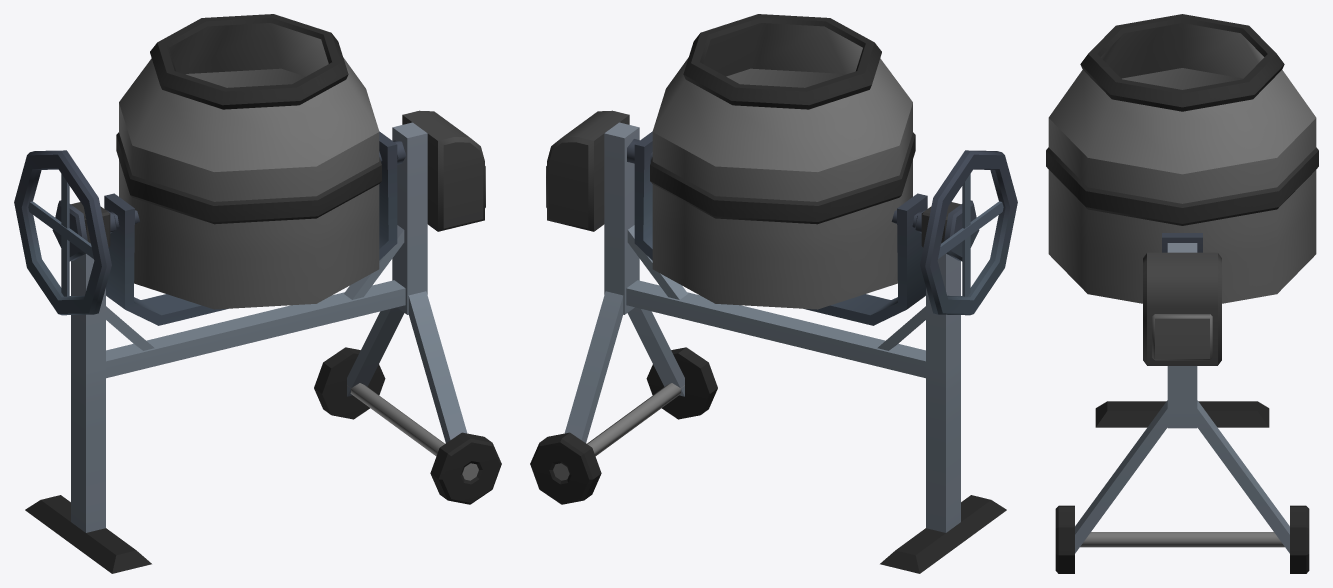
File: CementMixer_E.fbx
3 views of the same model, side by side, from view 1: azimuth 30°, elevation 25°; view 2: azimuth 150°, elevation 25°; view 3: azimuth 270°, elevation 25° (orthographic).
Parts seen in each view (by area): view 1: Top5, CementMixer; view 2: Top5, CementMixer; view 3: Top5, CementMixer.
Part boxes in pixels (x1,y1,x2,y2): Top5: [14, 14, 406, 325]; CementMixer: [25, 110, 501, 573]; Top5: [627, 14, 1017, 325]; CementMixer: [530, 110, 1006, 573]; Top5: [1046, 14, 1318, 303]; CementMixer: [1055, 243, 1309, 573].
Bounding box in the file's own units: 66.75 × 68.54 × 38.37.
